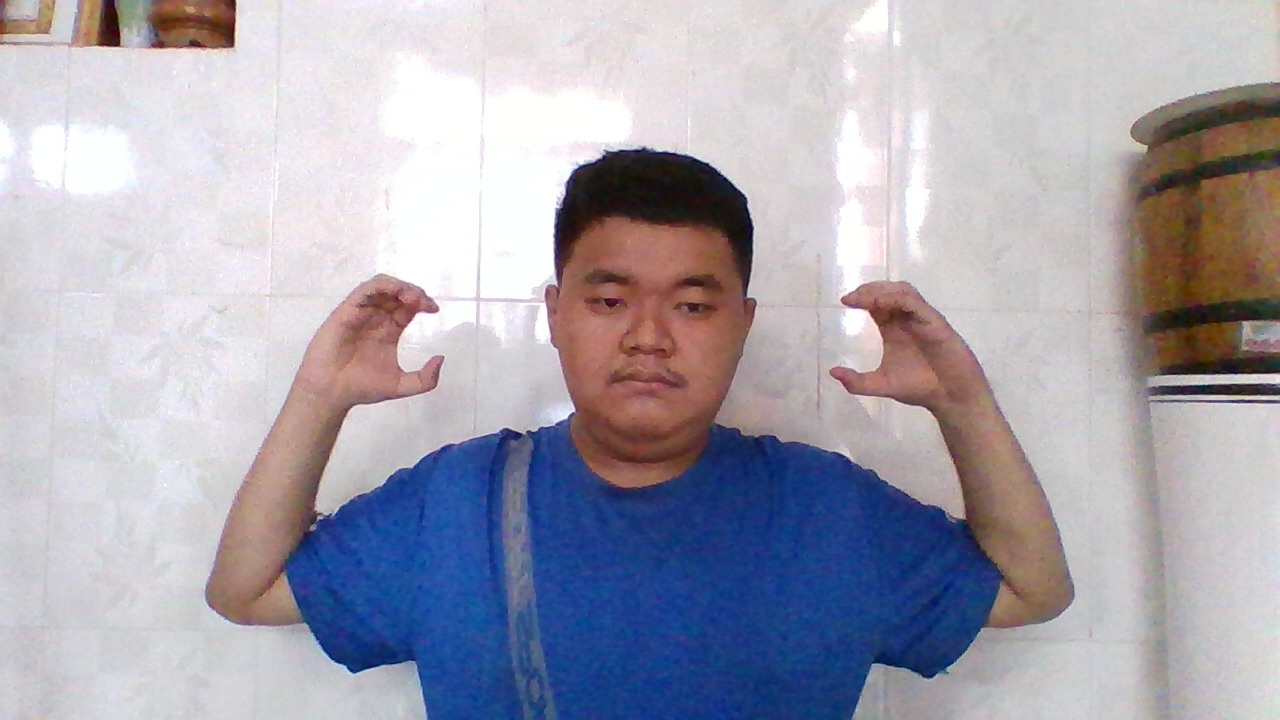C: (311, 265, 454, 410), (820, 271, 963, 414)
